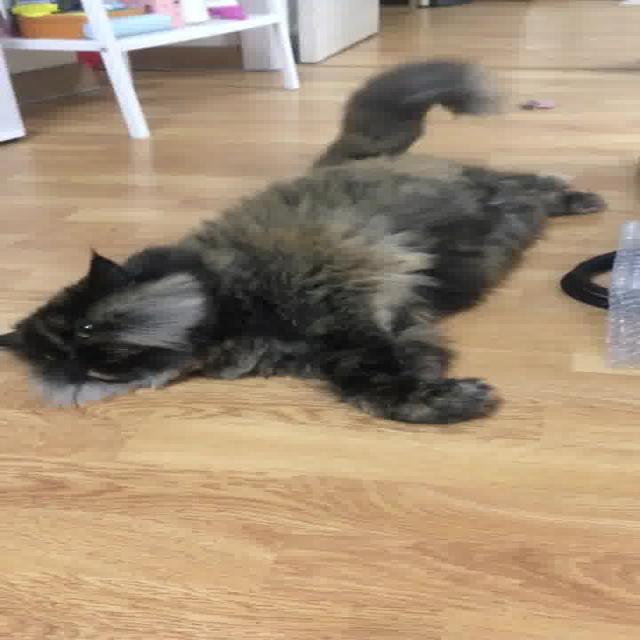cat: (0, 55, 612, 429)
